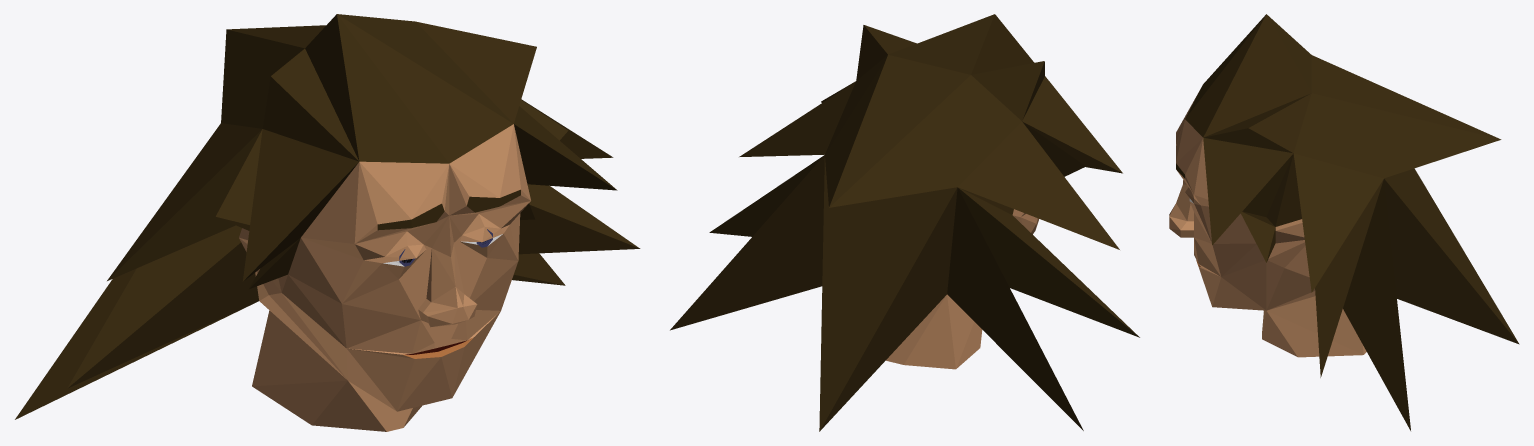
Rendered from model_46_idk_head.obj.
3 views of the same model, side by side, from view 1: azimuth 30°, elevation 25°; view 2: azimuth 150°, elevation 25°; view 3: azimuth 270°, elevation 25° (orthographic). The views are drawn at different scales.
Visible parts, largest first — view 1: 46; view 2: 46; view 3: 46.
Part boxes in pixels (x1,y1,x2,y2): 46: (15, 14, 640, 431); 46: (670, 14, 1139, 431); 46: (1169, 14, 1519, 430).
Bounding box in the file's own units: 208 × 152 × 155.
